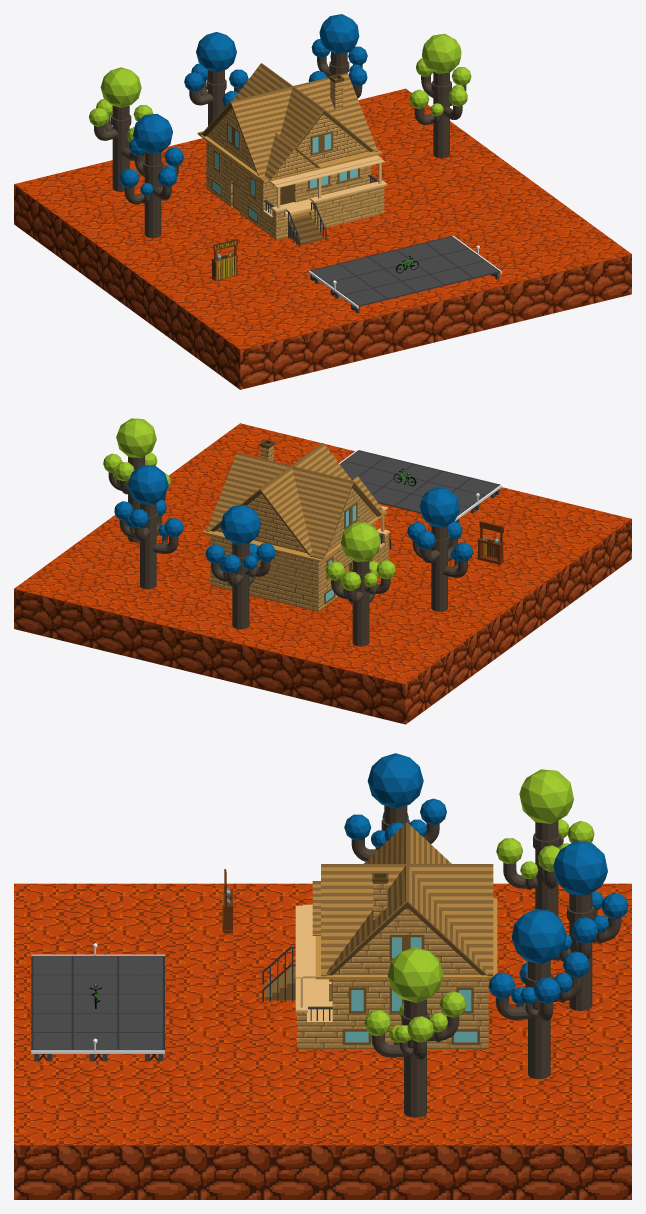
The picture shows the model from 3 angles, top to bottom: view 1: azimuth 30°, elevation 25°; view 2: azimuth 150°, elevation 25°; view 3: azimuth 270°, elevation 25°; orthographic projection. The views are drawn at different scales.
Parts seen in each view (by area): view 1: Cube.001, Cube.508, OBJRANDOM_LEMONADE_STAND; view 2: Cube.001, Cube.508, OBJRANDOM_LEMONADE_STAND; view 3: Cube.001, Cube.508.
Part boxes in pixels (x1=…): Cube.001: x1=14, y1=14, x2=631, y2=389; Cube.508: x1=197, y1=63, x2=387, y2=246; OBJRANDOM_LEMONADE_STAND: x1=211, y1=239, x2=237, y2=280; Cube.001: x1=14, y1=418, x2=631, y2=724; Cube.508: x1=202, y1=439, x2=391, y2=611; OBJRANDOM_LEMONADE_STAND: x1=477, y1=521, x2=503, y2=564; Cube.001: x1=14, y1=753, x2=631, y2=1199; Cube.508: x1=262, y1=823, x2=497, y2=1048.
Size of the model in its own units: 4000 by 1672 by 4000.
Materials: 31 (5 with a texture image).
